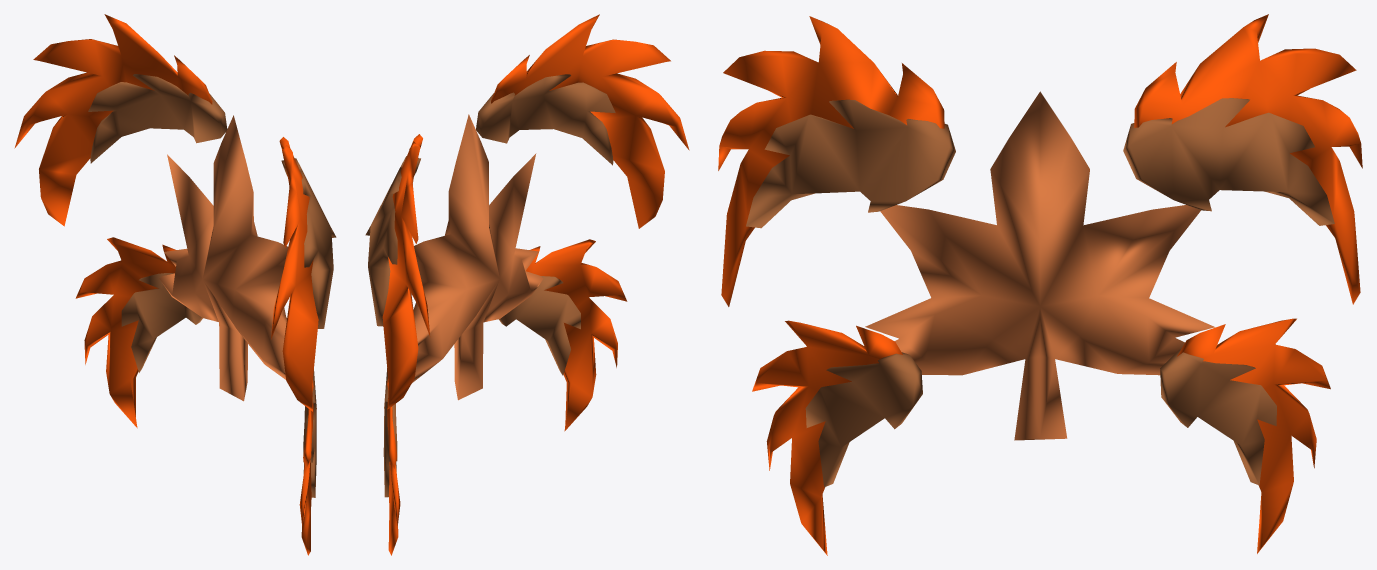
The model's file is FallenLeafLOW.fbx.
3 renders of one model, left to right at view 1: azimuth 30°, elevation 25°; view 2: azimuth 150°, elevation 25°; view 3: azimuth 270°, elevation 25°, orthographic. The views are drawn at different scales.
Visible parts, largest first — view 1: FallenLeaf; view 2: FallenLeaf; view 3: FallenLeaf.
Boxes of the visible parts, x1,y1,x2,y2 form: FallenLeaf: (14, 14, 336, 555); FallenLeaf: (365, 14, 689, 555); FallenLeaf: (718, 14, 1362, 555).
Bounding box in the file's own units: 70.79 × 220 × 245.
